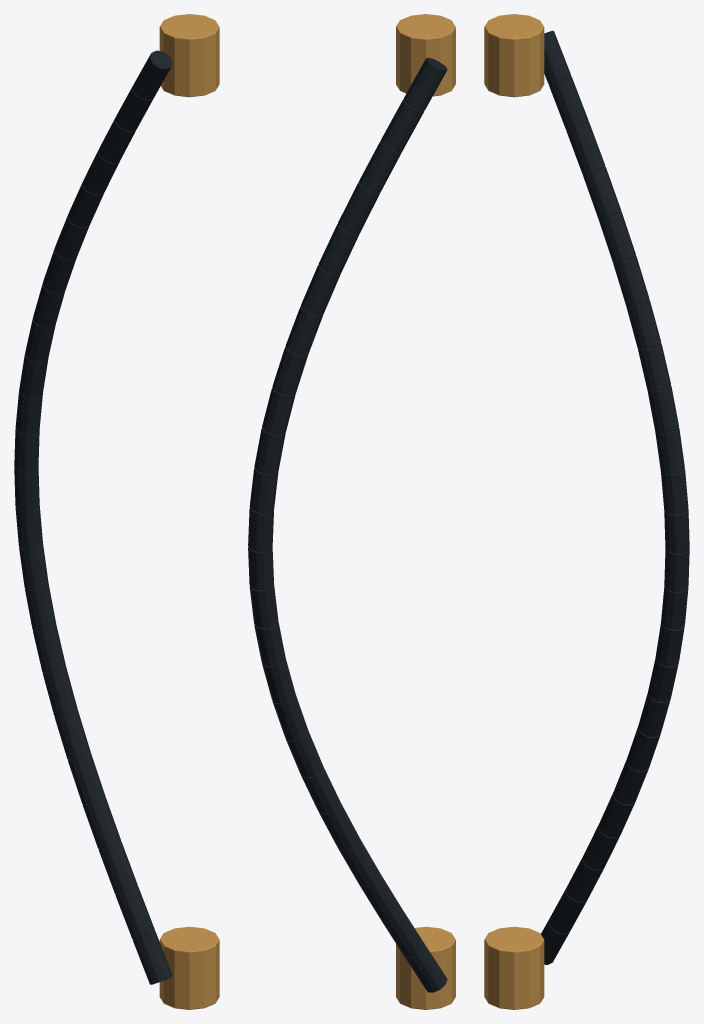
Rendered from SM_Lab_ReactorHarness__Cable_1_B.fbx.
3 views of the same model, side by side, from view 1: azimuth 90°, elevation 25°; view 2: azimuth 150°, elevation 25°; view 3: azimuth 270°, elevation 25° (orthographic).
Visible parts, largest first — view 1: SM_Lab_ReactorHarness__Cable_1_B; view 2: SM_Lab_ReactorHarness__Cable_1_B; view 3: SM_Lab_ReactorHarness__Cable_1_B.
Boxes of the visible parts, x1,y1,x2,y2 form: SM_Lab_ReactorHarness__Cable_1_B: [14, 14, 219, 1009]; SM_Lab_ReactorHarness__Cable_1_B: [248, 14, 455, 1009]; SM_Lab_ReactorHarness__Cable_1_B: [484, 14, 689, 1009].
Size of the model in its own units: 32.37 by 44.45 by 232.
